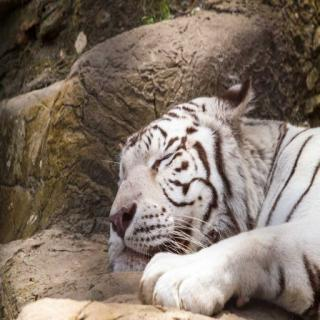Tiger: (108, 80, 320, 319)
